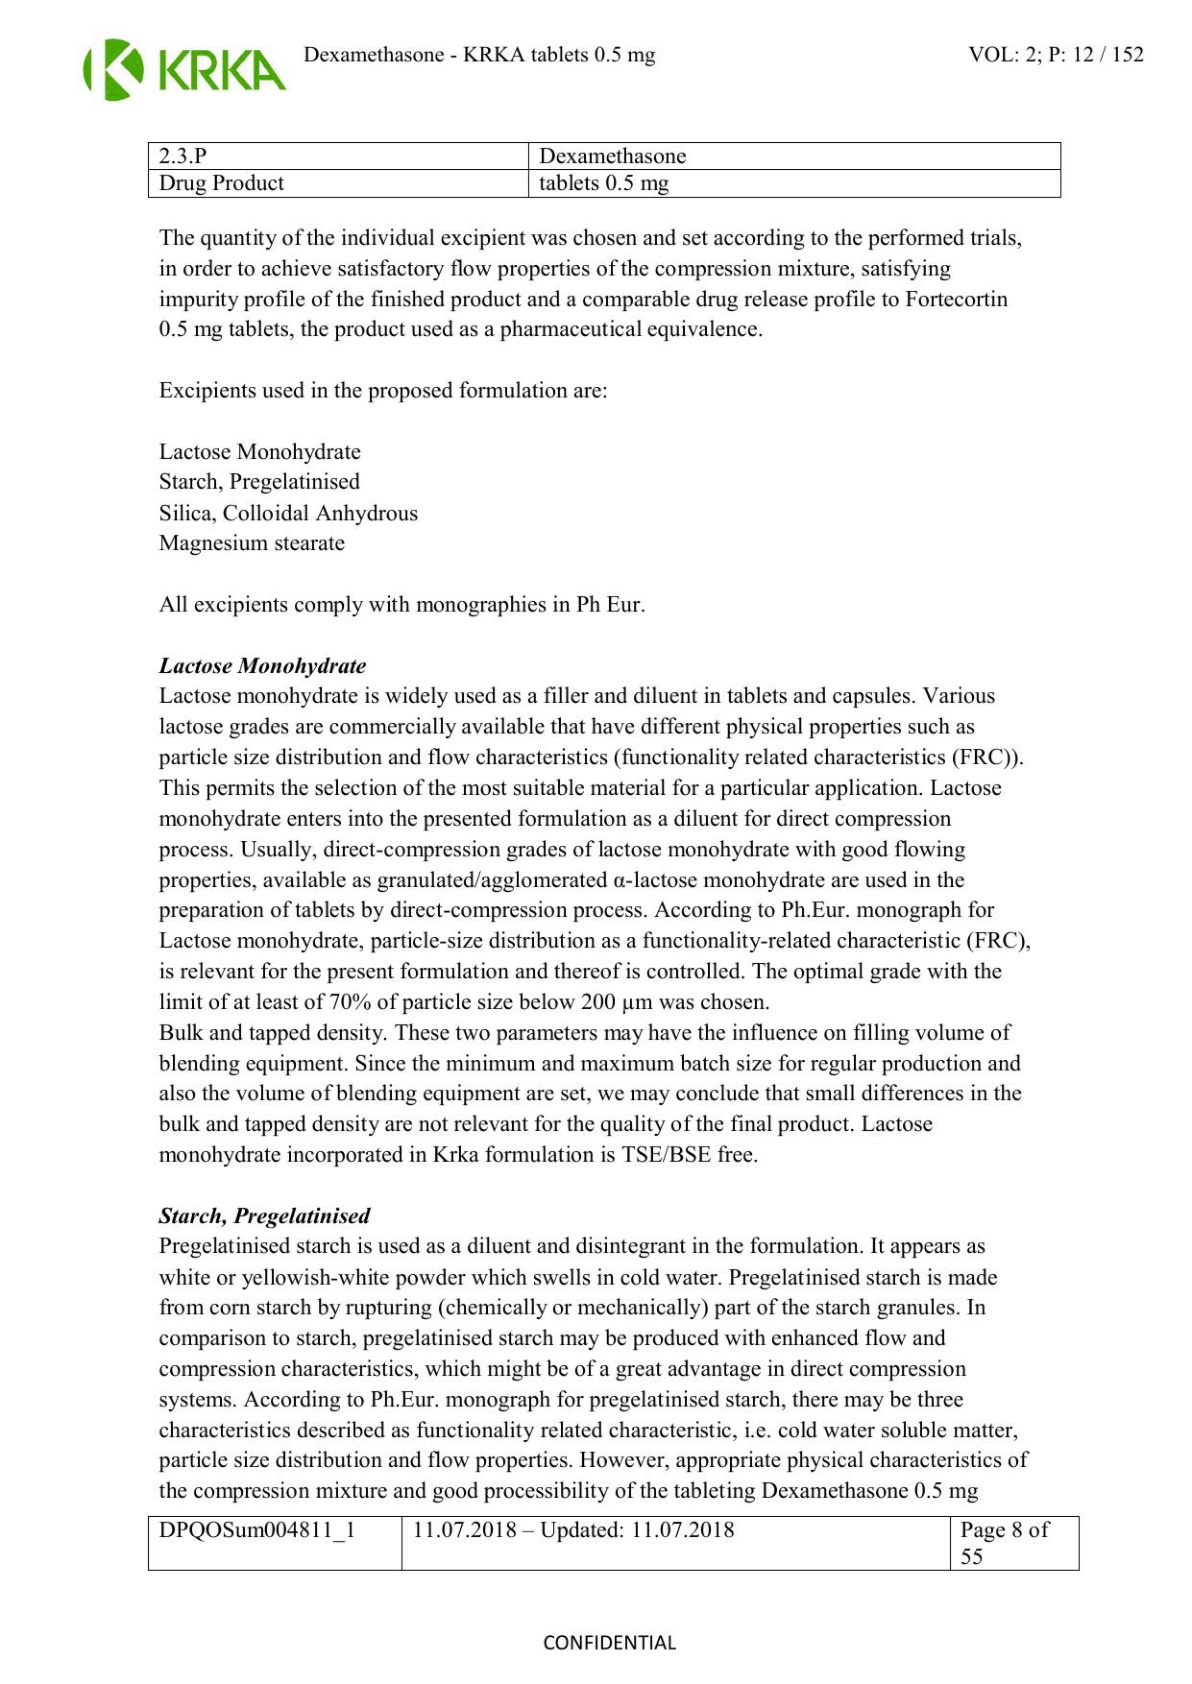full_lined: (147, 141, 1062, 199), (147, 1515, 1080, 1571)
